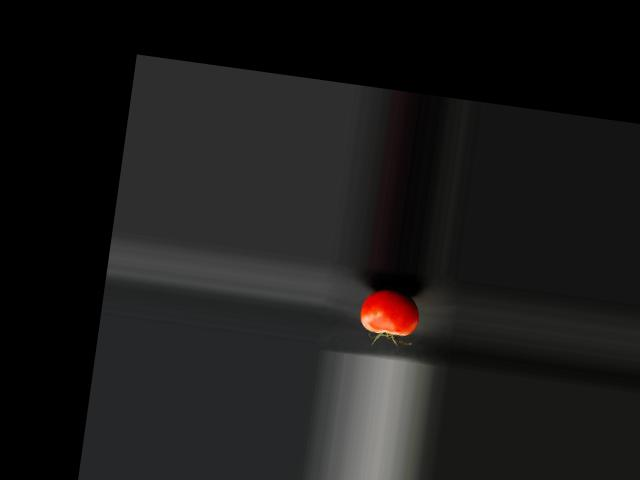tomato: (357, 286, 421, 337)
